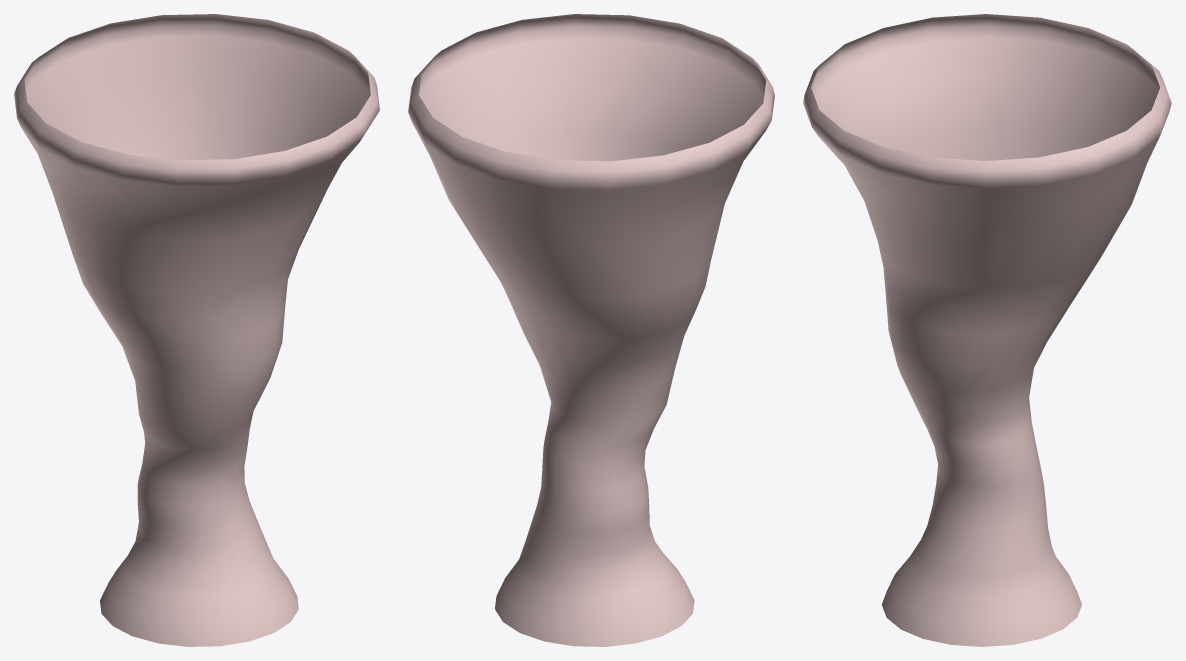
The model's file is Tornado Model.fbx.
3 renders of one model, left to right at view 1: azimuth 30°, elevation 25°; view 2: azimuth 150°, elevation 25°; view 3: azimuth 270°, elevation 25°, orthographic.
Parts seen in each view (by area): view 1: Tornado; view 2: Tornado; view 3: Tornado.
Boxes of the visible parts, x1=… form: Tornado: x1=14, y1=14, x2=379, y2=646; Tornado: x1=408, y1=14, x2=774, y2=646; Tornado: x1=803, y1=14, x2=1171, y2=646.
Bounding box in the file's own units: 31.98 × 49.6 × 32.03.
